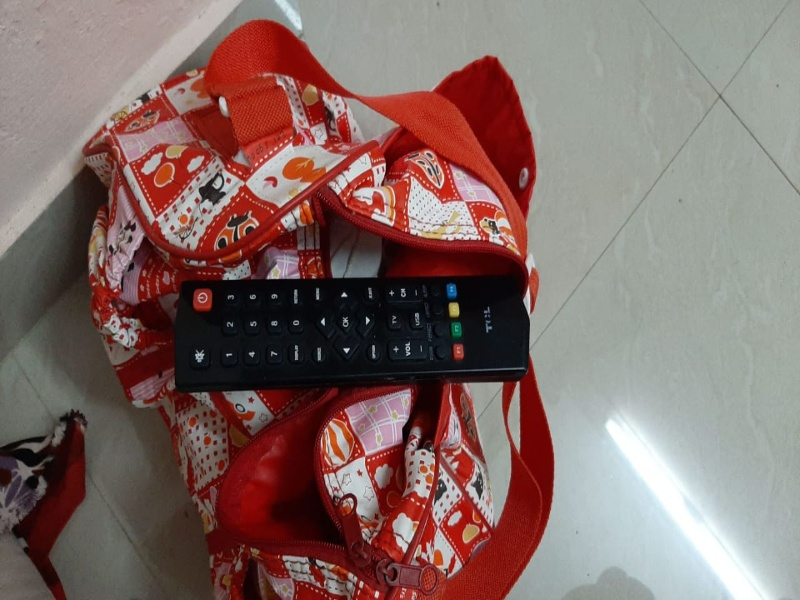remote: (175, 278, 539, 379)
